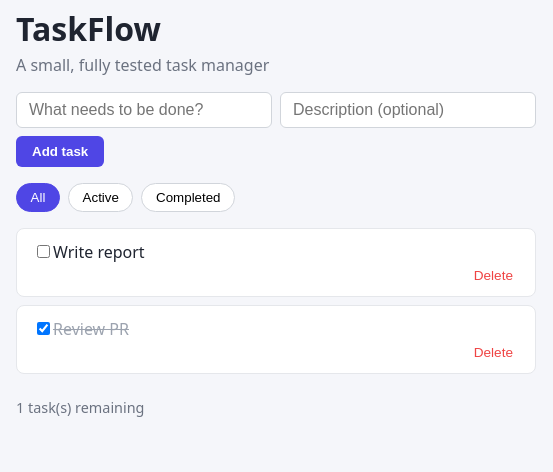
Scenario: App › a failed toggle reverts the checkbox and shows the error
Click the checkbox with test id "task-toggle" showing "Write report".
click(44, 251)  # box 37,245 -> 50,258
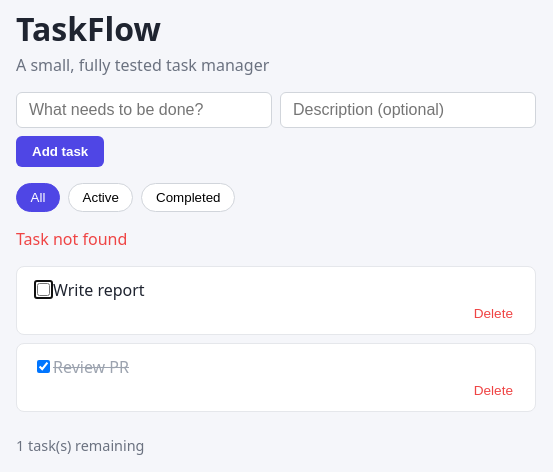
Expected: the checkbox with test id "task-toggle" showing "Write report" is not checked, 37,283 -> 50,296
Expected: the message with test id "action-error" reads "Task not found", 16,228 -> 127,250
